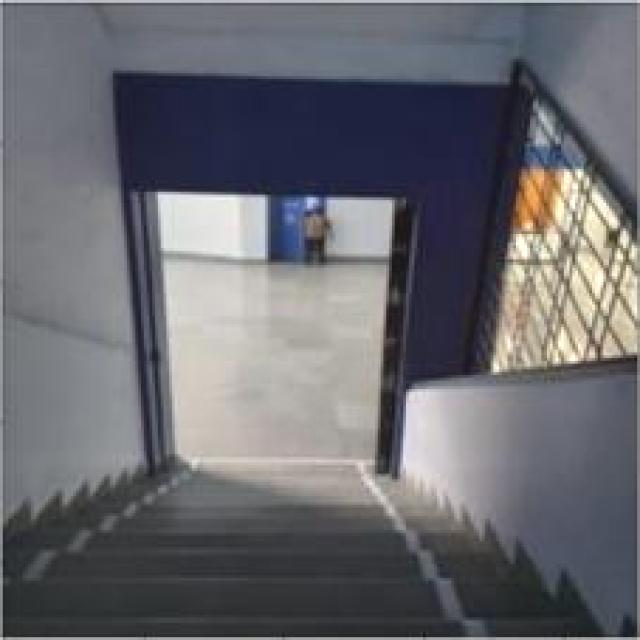stair: (108, 458, 424, 621)
